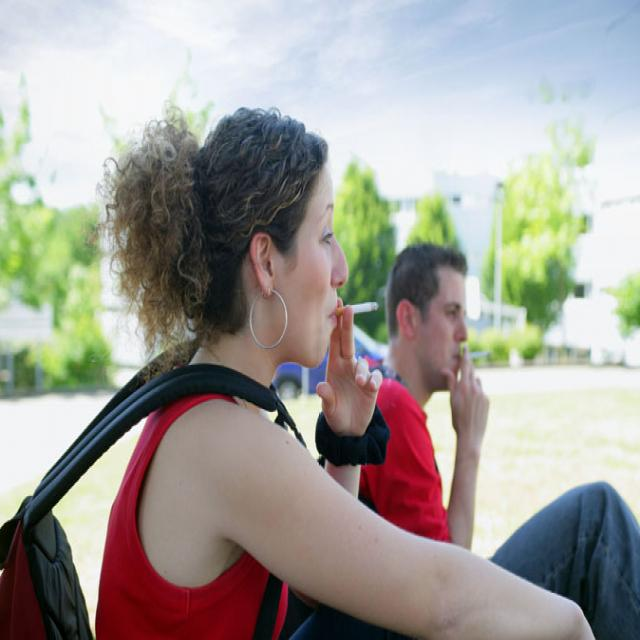smoking: (336, 300, 381, 322), (456, 350, 489, 363)
